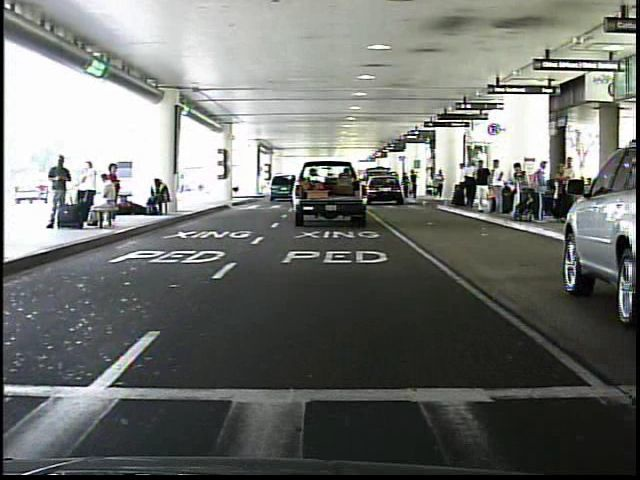person: (48, 153, 75, 232), (470, 157, 494, 221), (490, 159, 509, 219), (454, 158, 474, 211), (434, 166, 450, 206), (401, 170, 412, 203), (410, 170, 420, 204)
